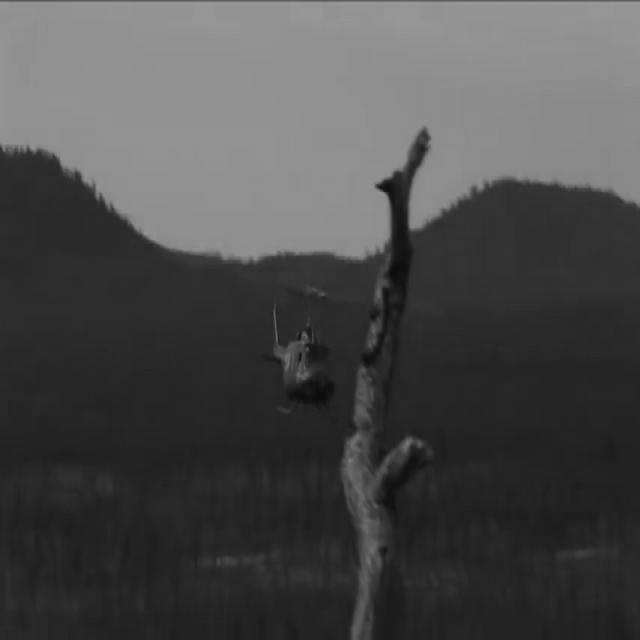helikopter: (246, 266, 356, 429)
